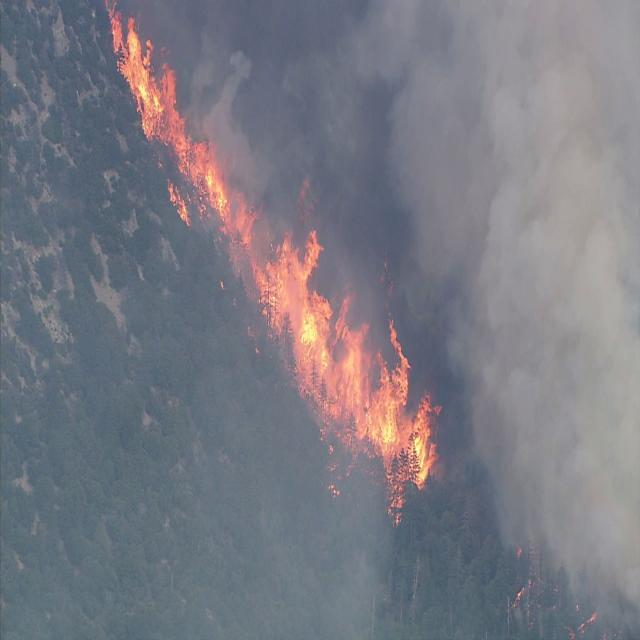Fire: (257, 226, 442, 501), (104, 0, 271, 272)
Smoke: (350, 0, 640, 623), (200, 23, 270, 200)
